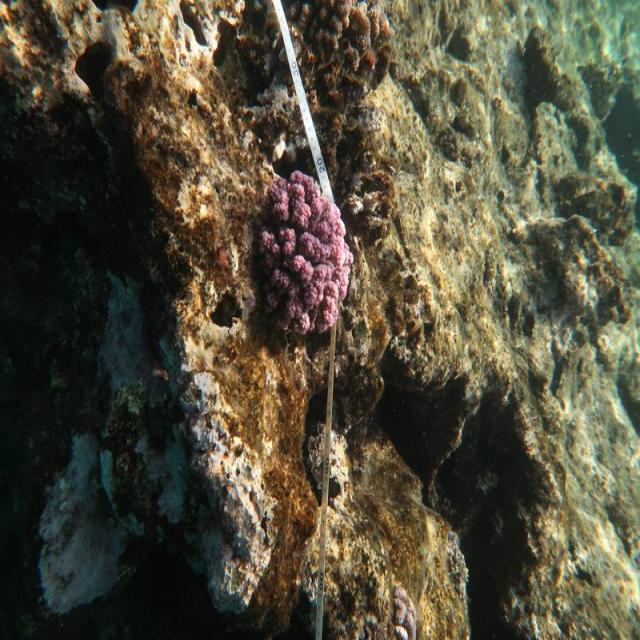Healthy Coral: (255, 174, 354, 340)
